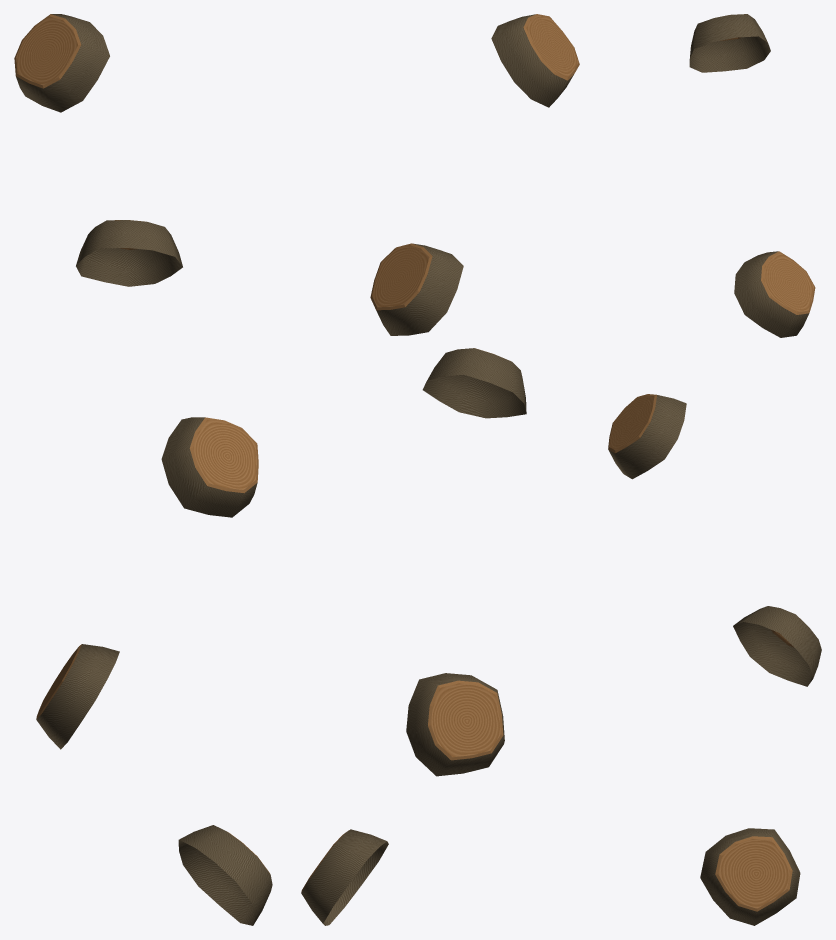
File: Sessile_Oak_Mature_02_MediumPruned_Recent_LOD1.fbx
3 renders of one model, left to right at view 1: azimuth 30°, elevation 25°; view 2: azimuth 150°, elevation 25°; view 3: azimuth 270°, elevation 25°, orthographic. The views are drawn at different scales.
Parts seen in each view (by area): view 1: Sessile_Oak_Mature_02_MediumPruned_Recent_LOD1_Scars; view 2: Sessile_Oak_Mature_02_MediumPruned_Recent_LOD1_Scars; view 3: Sessile_Oak_Mature_02_MediumPruned_Recent_LOD1_Scars.
Boxes of the visible parts, <box> form: Sessile_Oak_Mature_02_MediumPruned_Recent_LOD1_Scars: <box>14,14,272,925</box>; Sessile_Oak_Mature_02_MediumPruned_Recent_LOD1_Scars: <box>301,14,579,925</box>; Sessile_Oak_Mature_02_MediumPruned_Recent_LOD1_Scars: <box>608,14,821,925</box>.
Size of what is drawn, in the model's own units: 77.88 by 279 by 65.08.
2 materials, 2 textured.
